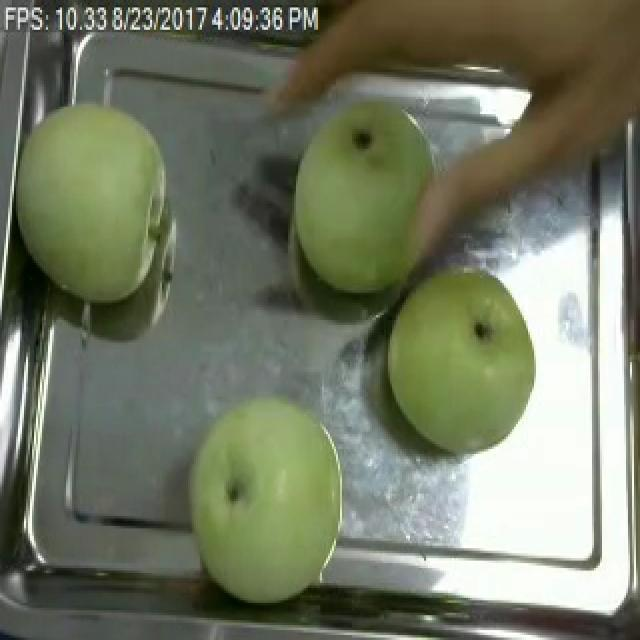50-_ripeness: (378, 269, 566, 460), (10, 95, 177, 302), (182, 402, 345, 600), (298, 112, 447, 300)
